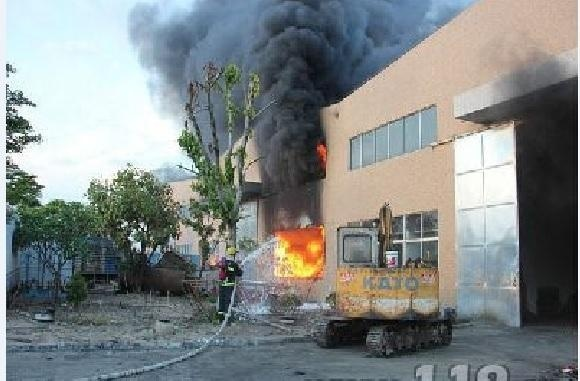fire: (272, 226, 322, 279)
